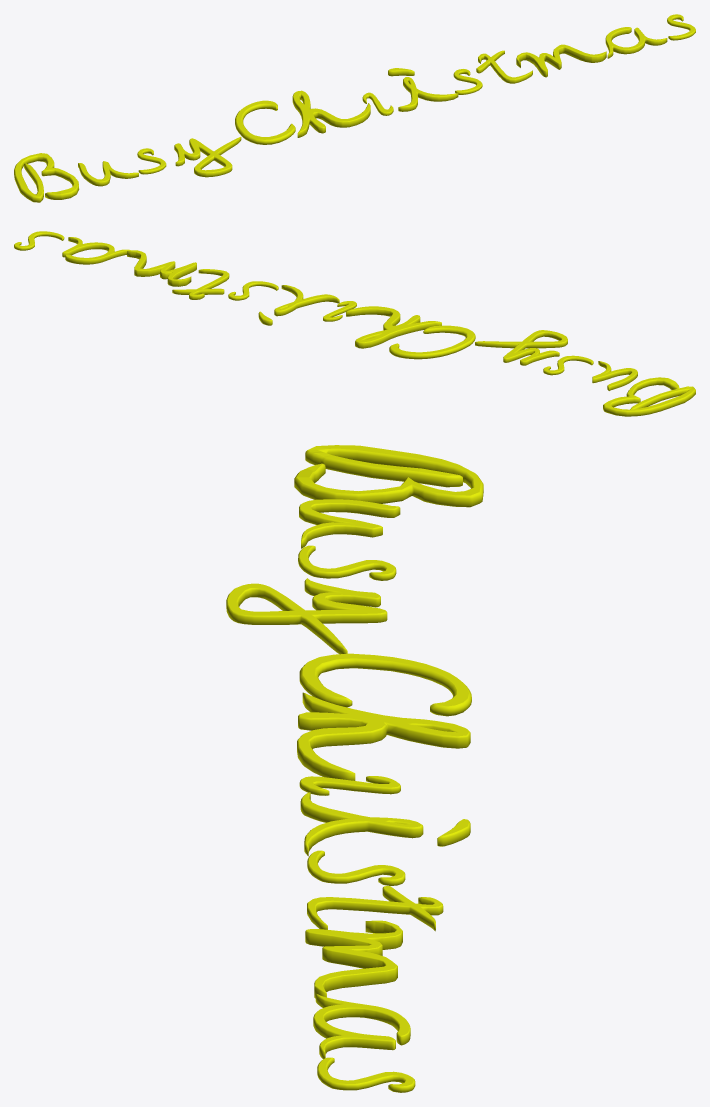
Rendered from title09180110-3.fbx.
3 views of the same model, one above another, from view 1: azimuth 30°, elevation 25°; view 2: azimuth 150°, elevation 25°; view 3: azimuth 270°, elevation 25° (orthographic). The views are drawn at different scales.
Parts seen in each view (by area): view 1: 平面; view 2: 平面; view 3: 平面.
Boxes of the visible parts, bbox=[...] form: 平面: bbox=[14, 14, 695, 202]; 平面: bbox=[14, 231, 695, 416]; 平面: bbox=[226, 445, 483, 1092].
Size of the model in its own units: 0.7488 by 0.0105 by 0.1263.
